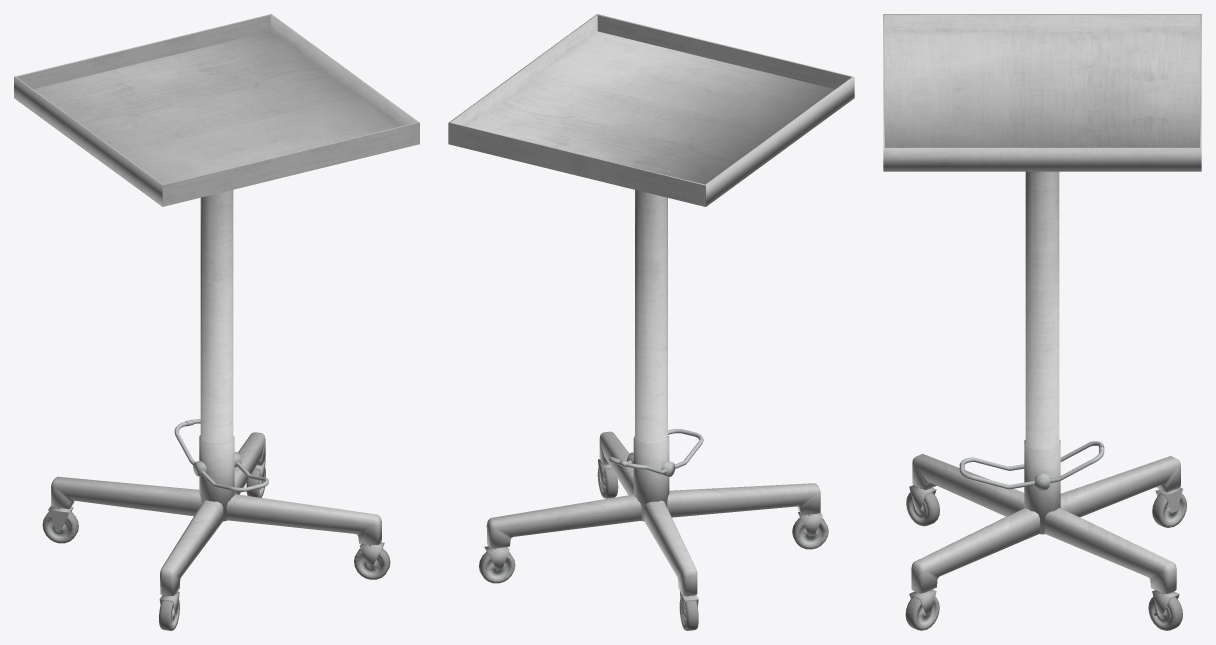
Rendered from troooly.fbx.
3 views of the same model, side by side, from view 1: azimuth 30°, elevation 25°; view 2: azimuth 150°, elevation 25°; view 3: azimuth 270°, elevation 25° (orthographic). The views are drawn at different scales.
Visible parts, largest first — view 1: _gltfNode_9; view 2: _gltfNode_9; view 3: _gltfNode_9.
Boxes of the visible parts, bbox=[...] form: _gltfNode_9: bbox=[14, 14, 419, 630]; _gltfNode_9: bbox=[448, 14, 854, 630]; _gltfNode_9: bbox=[883, 14, 1201, 630].
Size of the model in its own units: 101 by 173 by 101.
